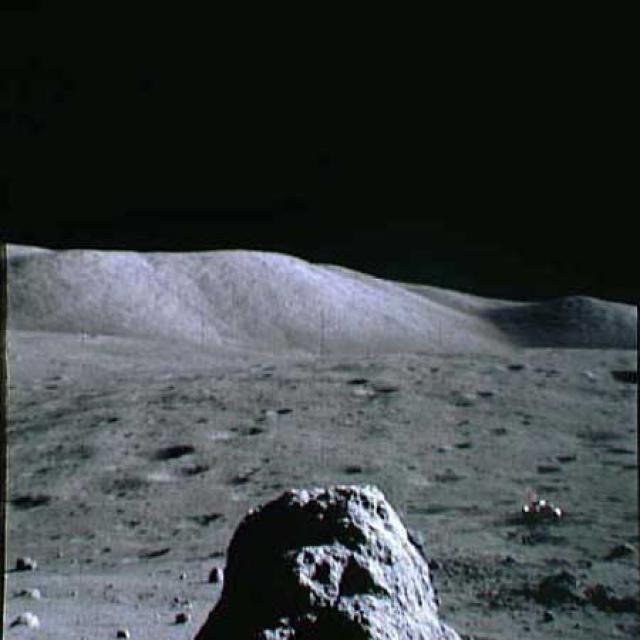artifact: (514, 480, 566, 525)
crater: (395, 490, 478, 519), (558, 415, 630, 446), (127, 437, 199, 464), (149, 454, 212, 484), (590, 358, 639, 390), (5, 489, 58, 514), (217, 422, 270, 441), (356, 378, 399, 400)
rock: (189, 476, 468, 638), (12, 582, 49, 604), (7, 610, 42, 632), (12, 552, 36, 572)
